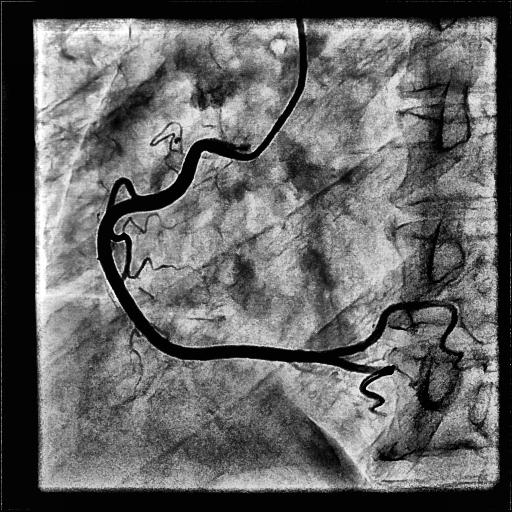pborca: (323, 300, 487, 372)
pda: (331, 357, 396, 416)
rca: (97, 138, 336, 364)
